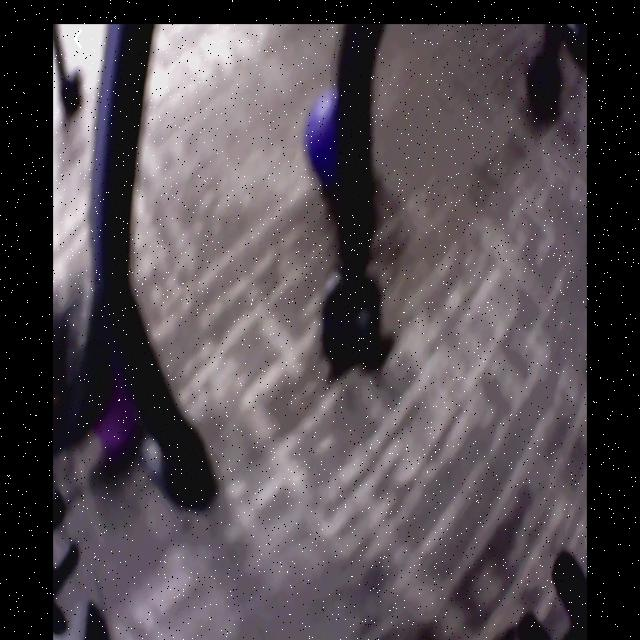ball: (96, 386, 144, 451), (307, 89, 338, 181)
